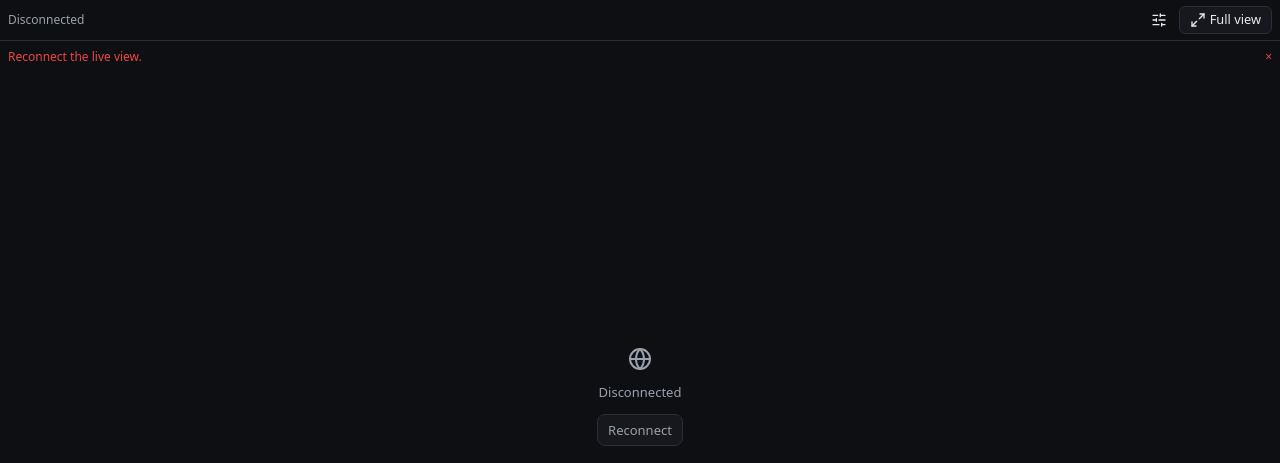
it: BrowserWorkspace session lifecycle › clears the picture and offers Reconnect after terminal screencast failure
This screenshot has width=1280, height=463.
Expected: the message "Reconnect the live view. ×" is shown, [8,48,1272,65]
Click the button "Reconnect": (640, 430) [597,414,683,446]
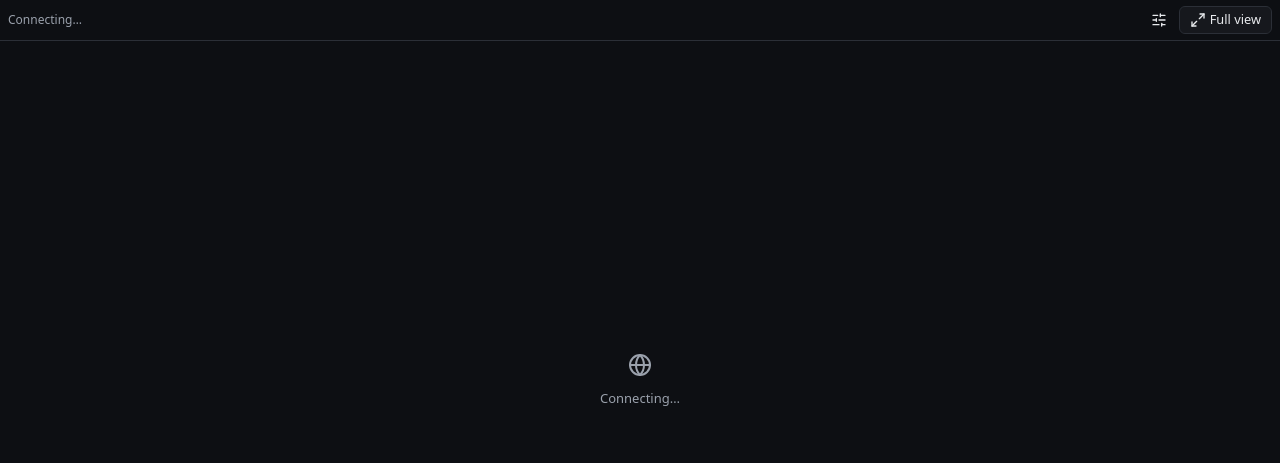
Expected: the message "Reconnect the live view. ×" is gone
